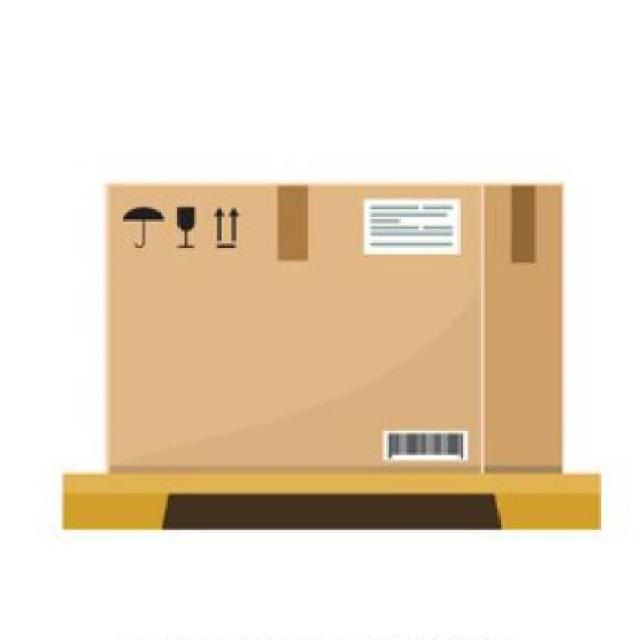box: (85, 164, 572, 474), (56, 464, 612, 550)
